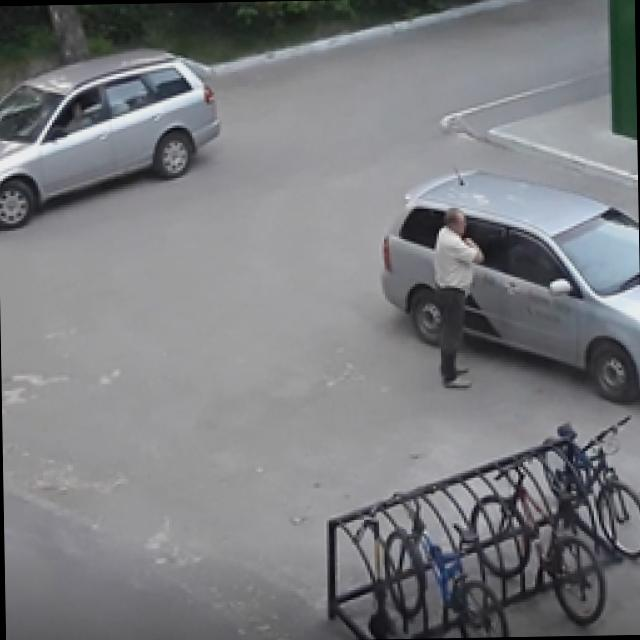person: (431, 207, 486, 388)
